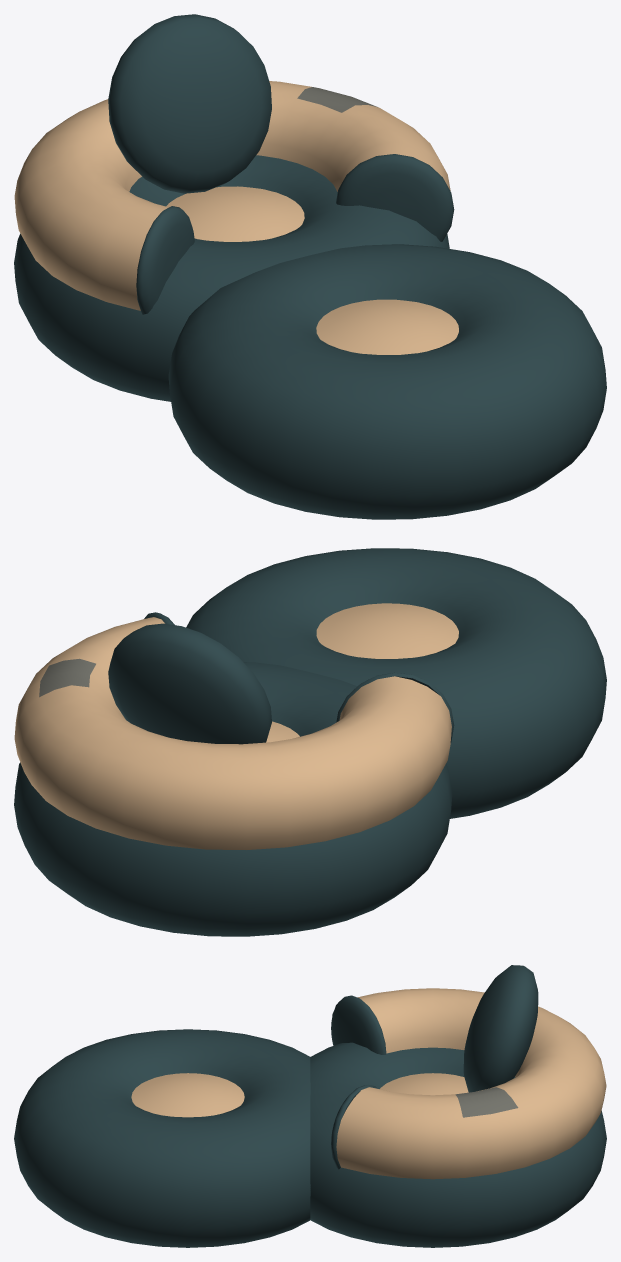
Rendered from FI_009_padded_armchair_long.glb.
3 renders of one model, top to bottom at view 1: azimuth 30°, elevation 25°; view 2: azimuth 150°, elevation 25°; view 3: azimuth 270°, elevation 25°, orthographic. The views are drawn at different scales.
Parts seen in each view (by area): view 1: padded_armchair_long; view 2: padded_armchair_long; view 3: padded_armchair_long.
Part boxes in pixels (x1=…): padded_armchair_long: x1=14, y1=14, x2=606, y2=519; padded_armchair_long: x1=14, y1=548, x2=606, y2=936; padded_armchair_long: x1=14, y1=965, x2=606, y2=1247.
Size of the model in its own units: 1.6 by 1.14 by 2.72.
